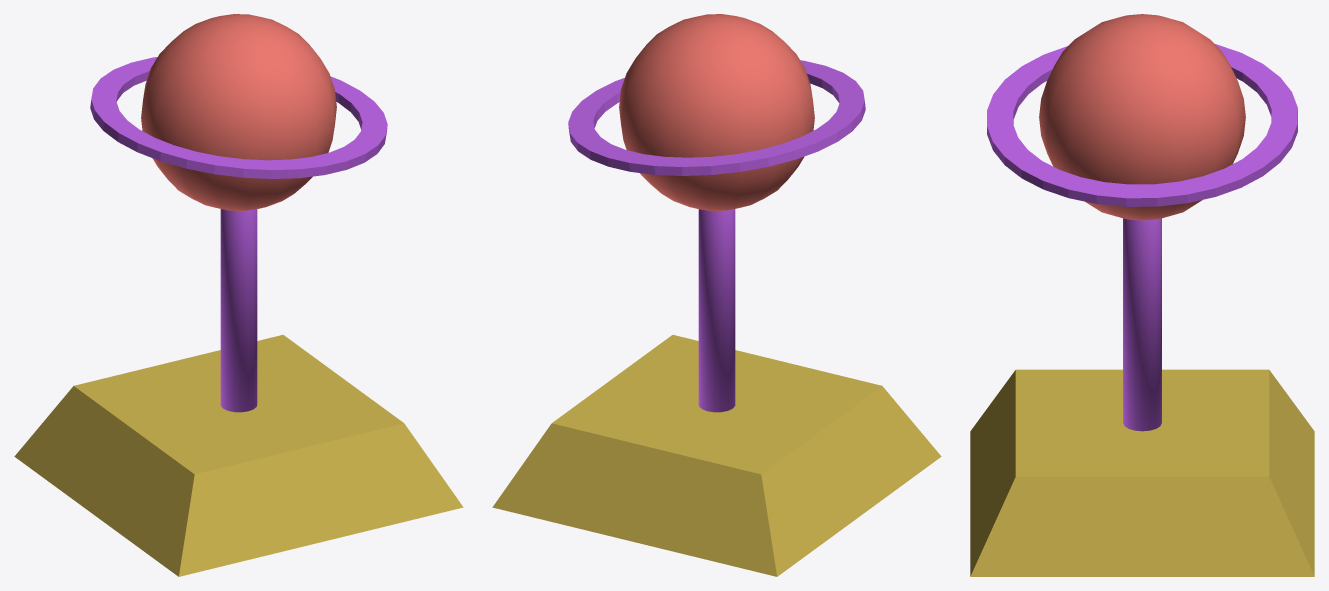
The picture shows the model from 3 angles, left to right: view 1: azimuth 30°, elevation 25°; view 2: azimuth 150°, elevation 25°; view 3: azimuth 270°, elevation 25°; orthographic projection. The views are drawn at different scales.
Parts seen in each view (by area): view 1: 拉杆底座, 拉杆; view 2: 拉杆底座, 拉杆; view 3: 拉杆底座, 拉杆.
Boxes of the visible parts, <box> form: 拉杆底座: <box>14,335,463,576</box>; 拉杆: <box>90,14,387,412</box>; 拉杆底座: <box>492,335,941,576</box>; 拉杆: <box>568,14,865,412</box>; 拉杆底座: <box>970,369,1314,576</box>; 拉杆: <box>987,14,1297,431</box>.
Size of the model in its own units: 36.35 by 55.97 by 36.35.
